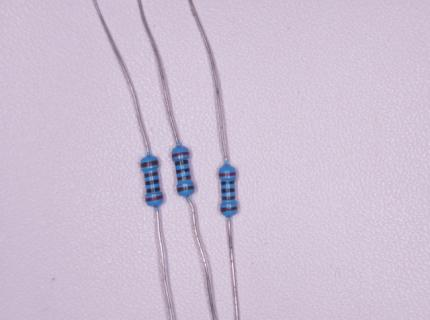Black band: (176, 168, 190, 174), (145, 180, 159, 186), (146, 187, 160, 193), (175, 160, 188, 166), (222, 188, 235, 193), (221, 181, 235, 185)
Brown band: (141, 160, 158, 167), (177, 185, 194, 192), (144, 171, 158, 178), (220, 207, 238, 212), (178, 175, 191, 181), (222, 196, 235, 200)
Red band: (145, 195, 164, 202), (172, 152, 189, 157), (219, 172, 236, 177)
